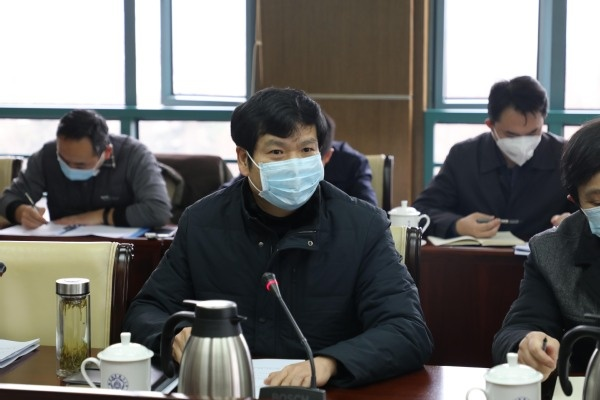correctlyWear: (234, 128, 325, 211), (484, 108, 548, 168), (56, 139, 106, 182), (573, 175, 600, 241)
